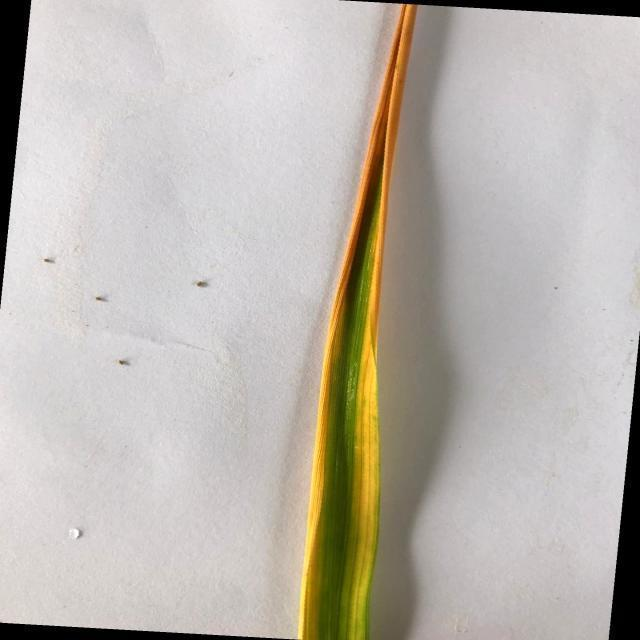Rice Tungro: (291, 6, 421, 640)
